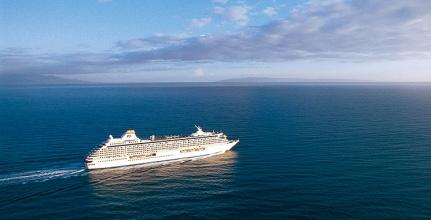youlun: (78, 119, 241, 174)
